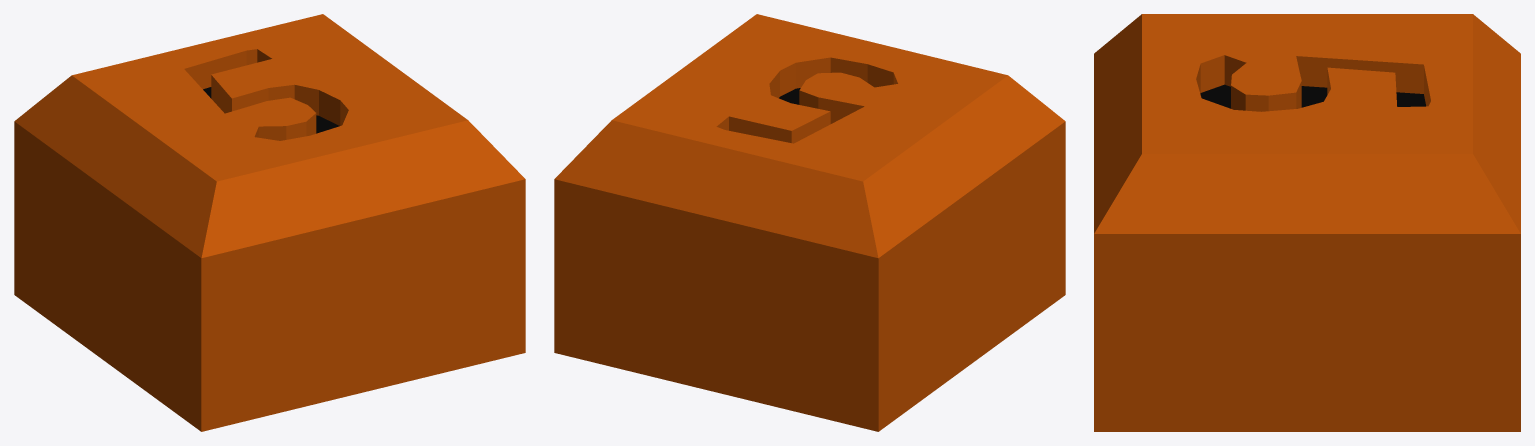
The model's file is Numero5.fbx.
3 renders of one model, left to right at view 1: azimuth 30°, elevation 25°; view 2: azimuth 150°, elevation 25°; view 3: azimuth 270°, elevation 25°, orthographic. The views are drawn at different scales.
Parts seen in each view (by area): view 1: Cubo5; view 2: Cubo5; view 3: Cubo5.
Boxes of the visible parts, bbox=[...] form: Cubo5: bbox=[14, 14, 525, 431]; Cubo5: bbox=[554, 14, 1065, 431]; Cubo5: bbox=[1094, 14, 1520, 431].
Bounding box in the file's own units: 15 × 10 × 15.
